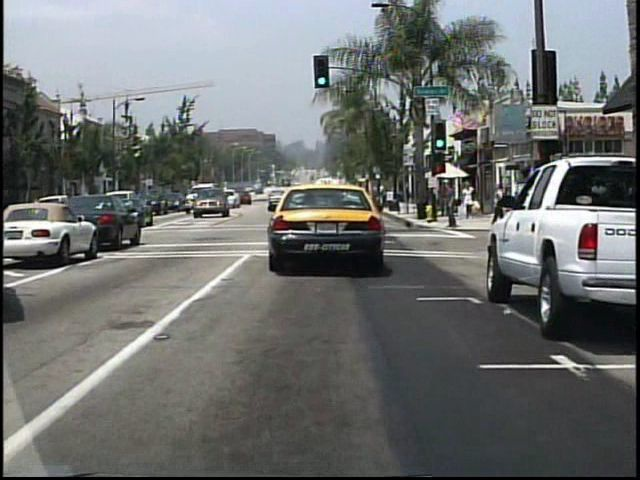person: (445, 182, 460, 232), (463, 180, 478, 219), (438, 182, 451, 218)
